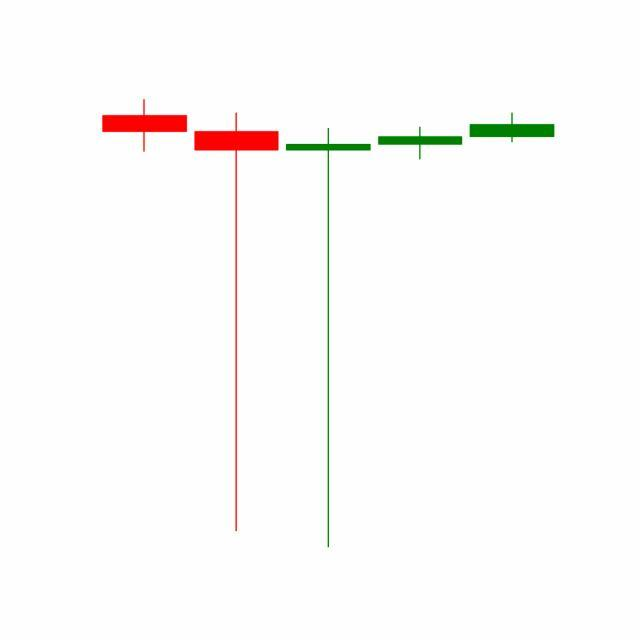Hanging Man: (374, 127, 468, 162)
